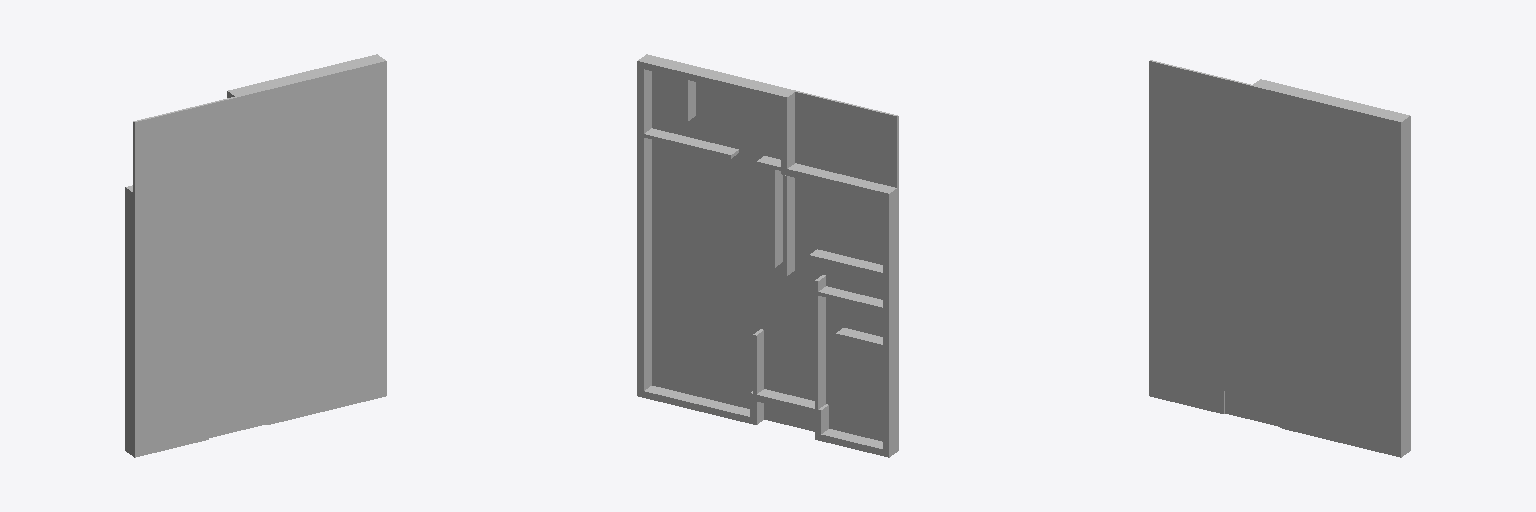
File: floors & foundations.obj
The picture shows the model from 3 angles: view 1: azimuth 30°, elevation 25°; view 2: azimuth 150°, elevation 25°; view 3: azimuth 330°, elevation 25°; orthographic projection.
Parts seen in each view (by area): view 1: A-Wall_curve_.005_Mesh.102, A-Wall_curve_.002_Mesh.004, A-Wall_curve_.000_Mesh.000; view 2: A-Wall_curve_.005_Mesh.102, A-Wall_curve_.000_Mesh.000, A-Wall_curve_.001_Mesh.001, A-Wall_curve_.002_Mesh.004; view 3: A-Wall_curve_.005_Mesh.102, A-Wall_curve_.002_Mesh.004, A-Wall_curve_.000_Mesh.000.
Part boxes in pixels (left/top/right/bottom): A-Wall_curve_.005_Mesh.102: left=133, top=60, right=386, bottom=457; A-Wall_curve_.002_Mesh.004: left=133, top=97, right=236, bottom=193; A-Wall_curve_.000_Mesh.000: left=125, top=54, right=384, bottom=455; A-Wall_curve_.005_Mesh.102: left=646, top=54, right=898, bottom=451; A-Wall_curve_.000_Mesh.000: left=637, top=55, right=896, bottom=457; A-Wall_curve_.001_Mesh.001: left=644, top=79, right=882, bottom=409; A-Wall_curve_.002_Mesh.004: left=795, top=91, right=898, bottom=187; A-Wall_curve_.005_Mesh.102: left=1149, top=85, right=1402, bottom=457; A-Wall_curve_.002_Mesh.004: left=1149, top=60, right=1251, bottom=156; A-Wall_curve_.000_Mesh.000: left=1253, top=79, right=1410, bottom=455.
Size of the model in its own units: 11000 by 14000 by 700.